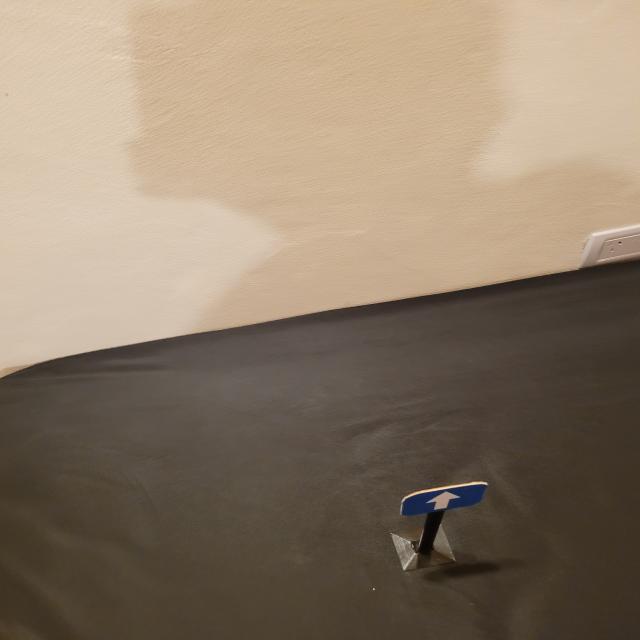one_way: (400, 482, 488, 518)
